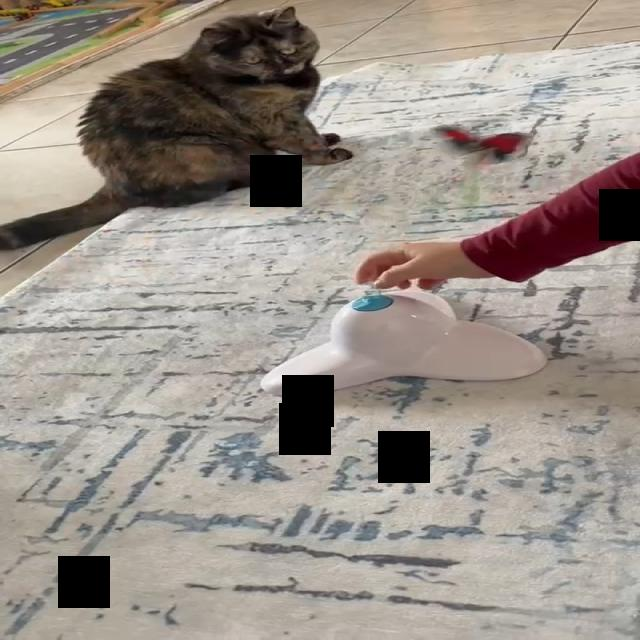authorized: (0, 5, 353, 250)
